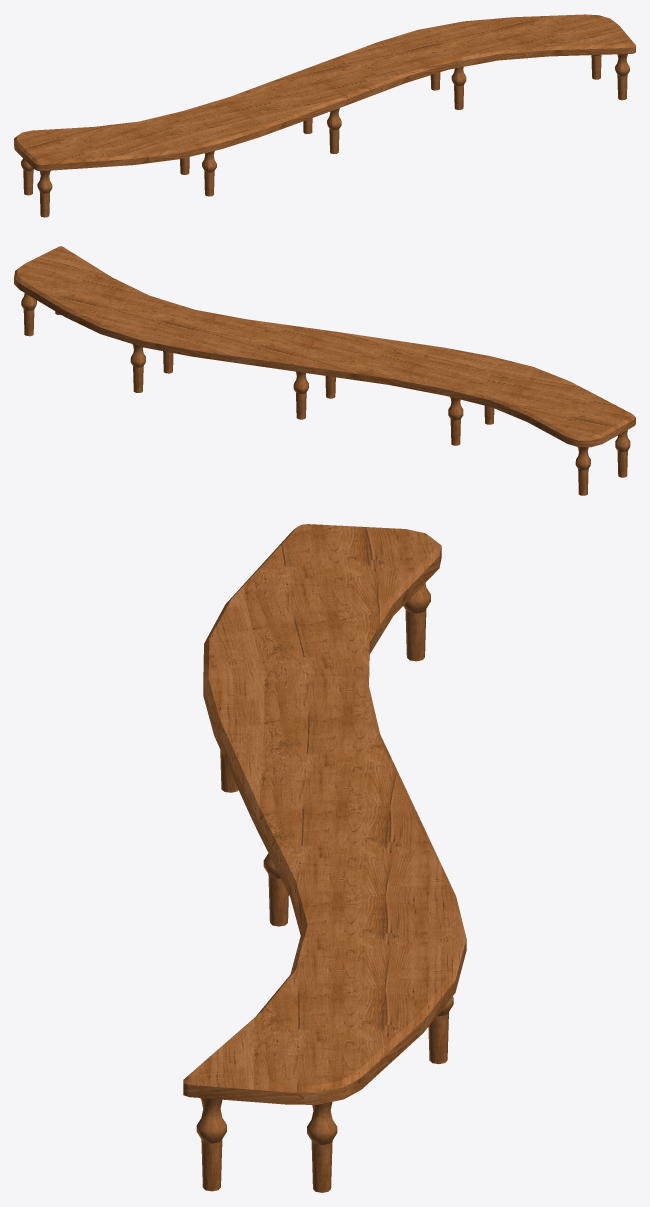
File: M_Home_Garden_Table03.fbx
3 views of the same model, one above another, from view 1: azimuth 30°, elevation 25°; view 2: azimuth 150°, elevation 25°; view 3: azimuth 270°, elevation 25° (orthographic). The views are drawn at different scales.
Visible parts, largest first — view 1: M_Home_Garden_Table03; view 2: M_Home_Garden_Table03; view 3: M_Home_Garden_Table03.
Part boxes in pixels (x1,y1,x2,y2): M_Home_Garden_Table03: [14, 14, 635, 217]; M_Home_Garden_Table03: [14, 246, 635, 495]; M_Home_Garden_Table03: [183, 524, 466, 1192].
Size of the model in its own units: 534 by 50.74 by 113.
